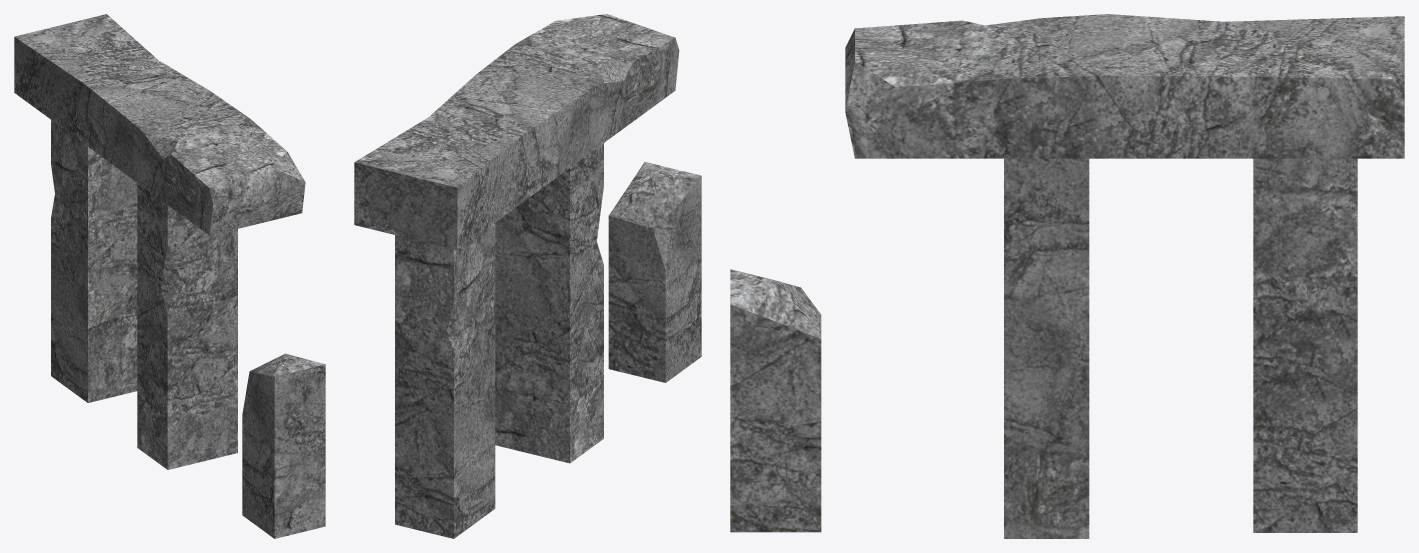
File: materials_3_handrail_11.fbx
The picture shows the model from 3 angles, left to right: view 1: azimuth 30°, elevation 25°; view 2: azimuth 150°, elevation 25°; view 3: azimuth 270°, elevation 25°; orthographic projection. The views are drawn at different scales.
Parts seen in each view (by area): view 1: materials_3_handrail_11; view 2: materials_3_handrail_11; view 3: materials_3_handrail_11.
Boxes of the visible parts, box(x1,y1,x2,y2) form: materials_3_handrail_11: box(14, 14, 325, 538); materials_3_handrail_11: box(354, 14, 701, 538); materials_3_handrail_11: box(730, 14, 1404, 538).
Size of the model in its own units: 22.16 by 76.34 by 99.41.
